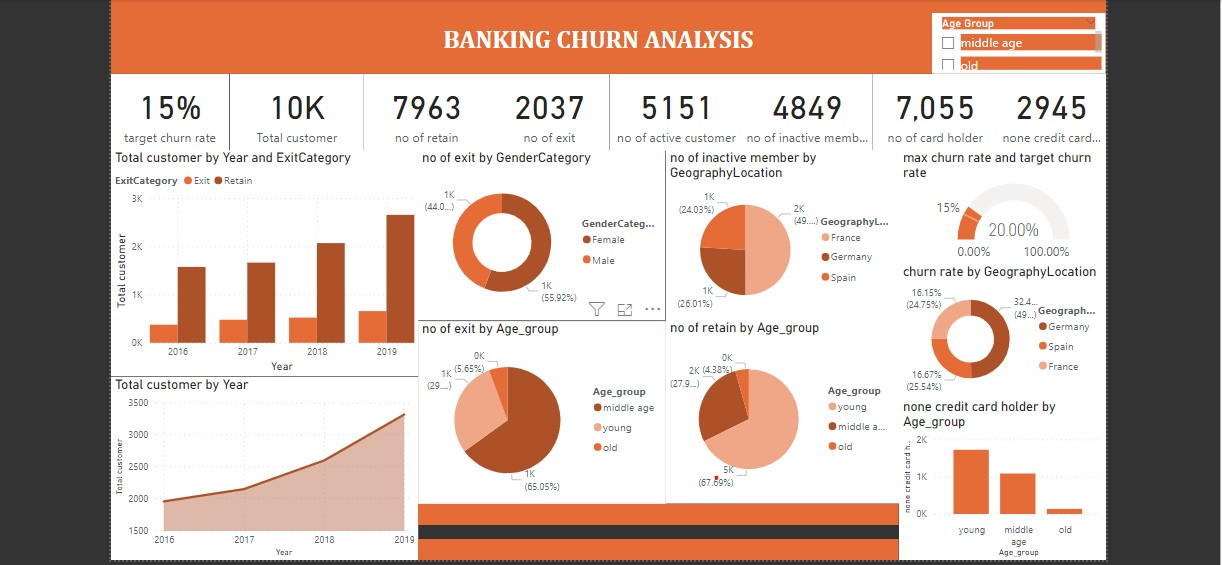

What the dashboard file says about the page in this screenshot:
{"tool":"powerbi","page":{"name":"Page 1","canvas":[1280,720],"ordinal":0},"visuals":[{"type":"card","fields":{"Values":["Calculation table.Total customer"]},"box":[152.5,94.6,172.2,98.8],"z":0},{"type":"gauge","fields":{"Y":["Calculation table.churn rate"]},"box":[1068.7,14.1,180.7,80.5],"z":1000},{"type":"card","fields":{"Values":["Calculation table.no of card holder"]},"box":[979.8,94.6,159.5,98.8],"z":2000},{"type":"card","fields":{"Values":["Calculation table.no of exit"]},"box":[485.6,94.6,155.3,98.8],"z":3000},{"type":"card","fields":{"Values":["Calculation table.no of inactive member"]},"box":[811.8,94.6,168,98.8],"z":4000},{"type":"card","fields":{"Values":["Calculation table.target churn rate"]},"box":[0,94.6,152.5,98.8],"z":5000},{"type":"card","fields":{"Values":["Calculation table.no of active customer"]},"box":[640.9,94.6,170.8,98.8],"z":6000},{"type":"card","fields":{"Values":["Calculation table.no of retain"]},"box":[324.7,94.6,160.9,98.8],"z":7000},{"type":"card","fields":{"Values":["Calculation table.none credit card holder"]},"box":[1139.3,94.6,141.2,98.8],"z":8000},{"type":"areaChart","fields":{"Category":["My Calendar.Year","My Calendar.Month Name"],"Y":["Calculation table.Total customer"]},"box":[0,484.2,395.3,235.8],"z":11000},{"type":"donutChart","fields":{"Category":["Dim_Gender.GenderCategory"],"Y":["Calculation table.no of exit"]},"box":[395.3,193.4,317.6,218.8],"z":13000},{"type":"clusteredColumnChart","fields":{"Y":["Calculation table.Total customer"],"Series":["Dim_Exitcustomer.ExitCategory"],"Category":["My Calendar.Year"]},"box":[0,193.4,395.3,290.8],"z":14000},{"type":"shape","box":[0,0,1280.5,94.6],"z":15001},{"type":"textbox","box":[350.1,26.8,553.4,67.8],"z":15002},{"type":"gauge","fields":{"TargetValue":["Calculation table.target churn rate"],"Y":["Calculation table.max churn rate"]},"box":[1013.2,193.4,266.8,151.1],"z":15004},{"type":"pieChart","fields":{"Category":["Dim_Geography.GeographyLocation"],"Y":["Calculation table.no of inactive member"]},"box":[712.9,193.4,300.7,218.8],"z":15005},{"type":"donutChart","fields":{"Category":["Dim_Geography.GeographyLocation"],"Y":["Calculation table.churn rate"]},"box":[1013.6,338.8,266.8,173.6],"z":15006},{"type":"pieChart","fields":{"Category":["Fact_Bank_chum.Age_group"],"Y":["Calculation table.no of exit"]},"box":[395.3,412.2,317.6,235.8],"z":15008},{"type":"pieChart","fields":{"Category":["Fact_Bank_chum.Age_group"],"Y":["Calculation table.no of retain"]},"box":[713,412,301,236],"z":15009},{"type":"slicer","fields":{"Values":["Fact_Bank_chum.Age_group"]},"box":[1056,16.9,223.1,77.6],"z":15010},{"type":"columnChart","fields":{"Category":["Fact_Bank_chum.Age_group"],"Y":["Calculation table.none credit card holder"]},"box":[1013.6,512.5,266.8,207.5],"z":15011},{"type":"shape","box":[395.3,648,618.4,26.8],"z":15012},{"type":"shape","box":[395.3,693.2,618.4,26.8],"z":15013}]}

Visuals, with their boxes in screenshot pixels (x1, y1, x2, y2):
card - Calculation table.Total customer: [227, 73, 360, 150]
gauge - Calculation table.churn rate: [937, 11, 1078, 73]
card - Calculation table.no of card holder: [868, 73, 992, 150]
card - Calculation table.no of exit: [485, 73, 605, 150]
card - Calculation table.no of inactive member: [738, 73, 868, 150]
card - Calculation table.target churn rate: [108, 73, 227, 150]
card - Calculation table.no of active customer: [605, 73, 738, 150]
card - Calculation table.no of retain: [360, 73, 485, 150]
card - Calculation table.none credit card holder: [992, 73, 1102, 150]
areaChart - My Calendar.Year x My Calendar.Month Name: [108, 376, 415, 559]
donutChart - Dim_Gender.GenderCategory x Calculation table.no of exit: [415, 150, 661, 320]
clusteredColumnChart - Calculation table.Total customer x Dim_Exitcustomer.ExitCategory: [108, 150, 415, 376]
shape: [108, 0, 1102, 73]
textbox: [380, 21, 809, 73]
gauge - Calculation table.target churn rate x Calculation table.max churn rate: [894, 150, 1101, 267]
pieChart - Dim_Geography.GeographyLocation x Calculation table.no of inactive member: [661, 150, 895, 320]
donutChart - Dim_Geography.GeographyLocation x Calculation table.churn rate: [895, 263, 1102, 398]
pieChart - Fact_Bank_chum.Age_group x Calculation table.no of exit: [415, 320, 661, 503]
pieChart - Fact_Bank_chum.Age_group x Calculation table.no of retain: [661, 320, 895, 503]
slicer - Fact_Bank_chum.Age_group: [928, 13, 1101, 73]
columnChart - Fact_Bank_chum.Age_group x Calculation table.none credit card holder: [895, 398, 1102, 559]
shape: [415, 503, 895, 524]
shape: [415, 538, 895, 559]
